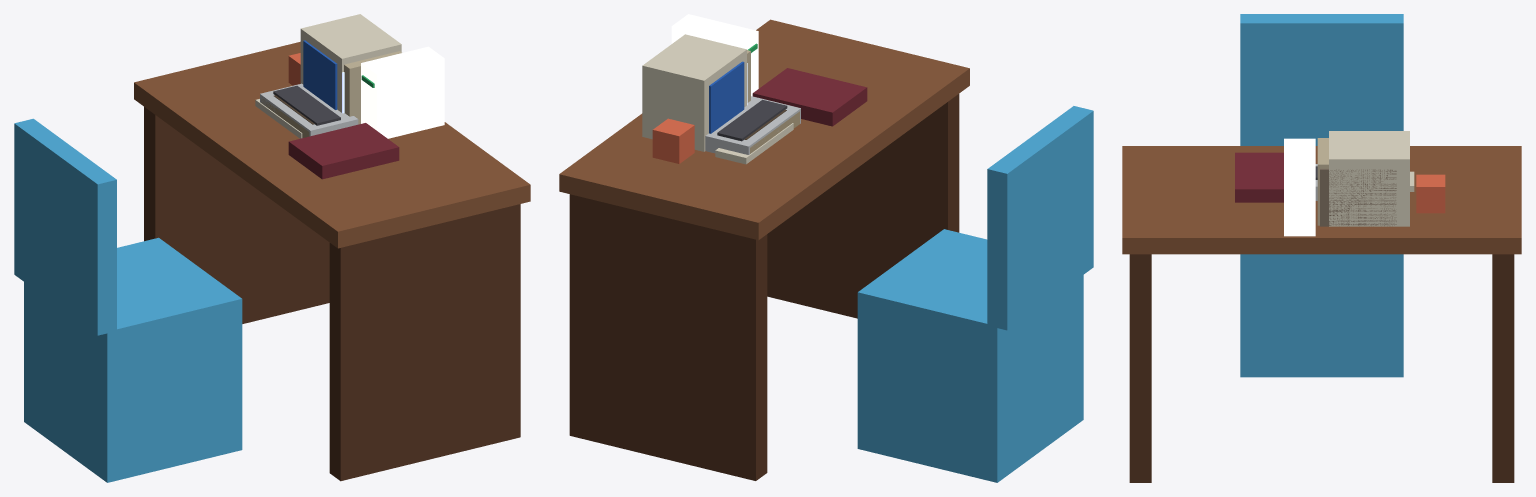
File: desk.glb
3 renders of one model, left to right at view 1: azimuth 30°, elevation 25°; view 2: azimuth 150°, elevation 25°; view 3: azimuth 270°, elevation 25°, orthographic. The views are drawn at different scales.
Parts seen in each view (by area): view 1: Box3, Box6, Box1, Box2, Box7, Box11, Box4, Box9, Box10, Box17, Box18, Box15; view 2: Box2, Box6, Box1, Box3, Box7, Box9, Box4, Box11, Box10, Box5, Box17, Box18 (+1 smaller); view 3: Box1, Box6, Box7, Box9, Box2, Box3, Box11, Box4, Box19, Box5, Box15.
Part boxes in pixels (<box>): Box3: <box>329,204,520,481</box>; Box6: <box>24,237,242,482</box>; Box1: <box>134,41,530,248</box>; Box2: <box>144,107,329,323</box>; Box7: <box>14,118,116,335</box>; Box11: <box>361,46,444,138</box>; Box4: <box>288,123,399,179</box>; Box9: <box>300,14,401,112</box>; Box10: <box>303,40,337,109</box>; Box17: <box>260,83,358,136</box>; Box18: <box>273,85,340,125</box>; Box15: <box>344,51,401,124</box>; Box2: <box>569,194,767,480</box>; Box6: <box>857,229,1083,482</box>; Box1: <box>559,19,969,240</box>; Box3: <box>767,94,959,318</box>; Box7: <box>987,106,1093,330</box>; Box9: <box>642,34,746,151</box>; Box4: <box>752,68,867,126</box>; Box11: <box>671,14,758,96</box>; Box10: <box>709,61,744,133</box>; Box5: <box>652,118,694,163</box>; Box17: <box>705,96,800,154</box>; Box18: <box>717,99,787,141</box>; Box1: <box>1122,146,1521,254</box>; Box6: <box>1240,254,1403,377</box>; Box7: <box>1240,14,1403,145</box>; Box9: <box>1329,131,1409,226</box>; Box2: <box>1492,254,1514,482</box>; Box3: <box>1129,254,1151,482</box>; Box11: <box>1284,138,1315,236</box>; Box4: <box>1235,152,1283,202</box>; Box19: <box>1320,168,1396,226</box>; Box5: <box>1416,174,1445,213</box>; Box15: <box>1317,138,1328,225</box>.
Size of the model in its own units: 1.16 by 0.9596 by 1.1.
